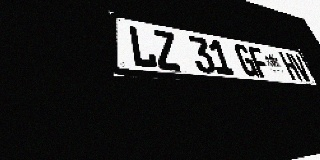1: (206, 39, 234, 75)
3: (188, 36, 217, 74)
F: (247, 46, 273, 78)
G: (233, 43, 260, 77)
H: (278, 51, 303, 81)
L: (127, 25, 158, 69)
V: (289, 53, 313, 82)
Z: (152, 29, 182, 71)
